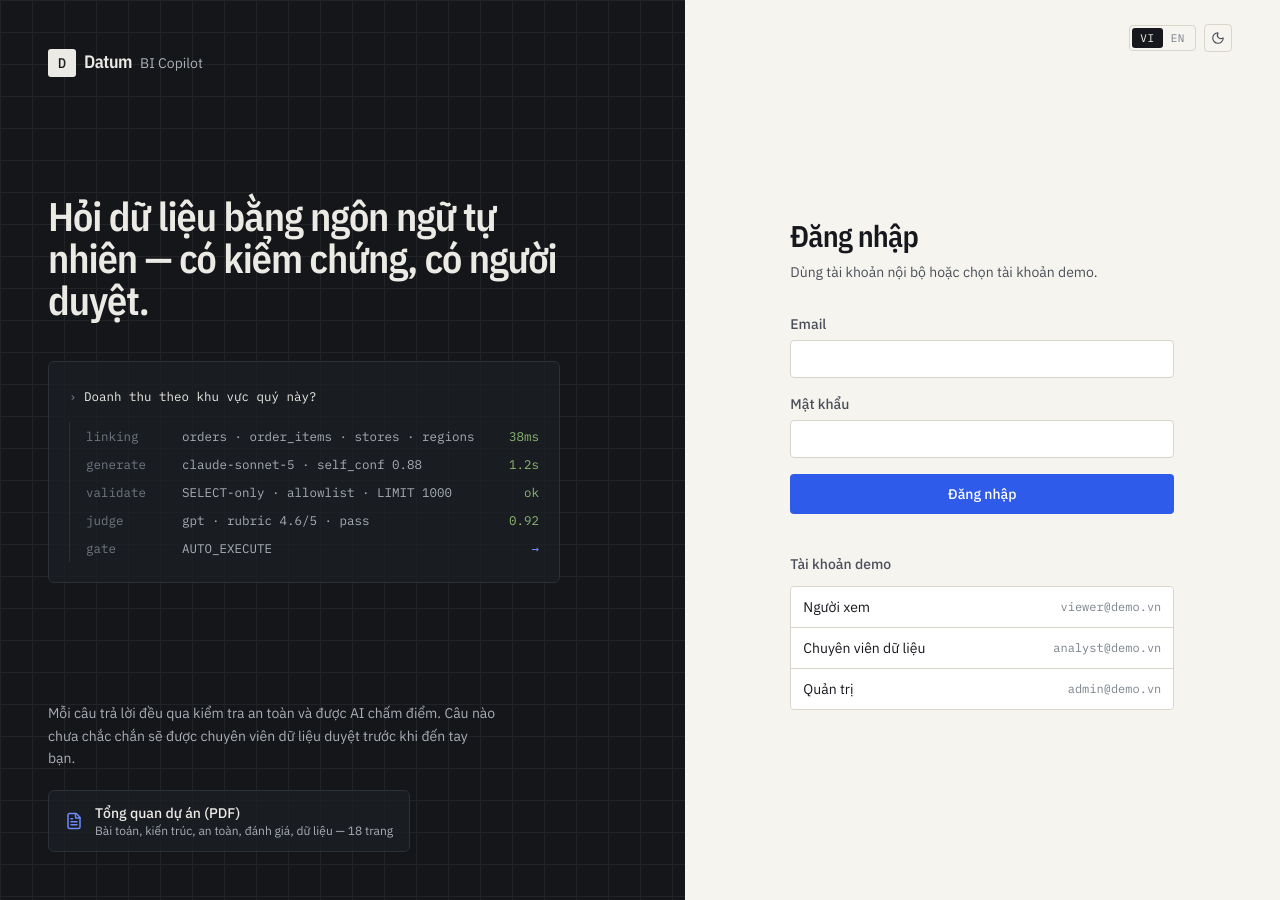
Test case: routing & login › clears a stale error when the user edits the form or picks a demo account
Type "viewer@demo.vn" into the field labelled "Email". click: (982, 359)
box: 790,340 -> 1174,378
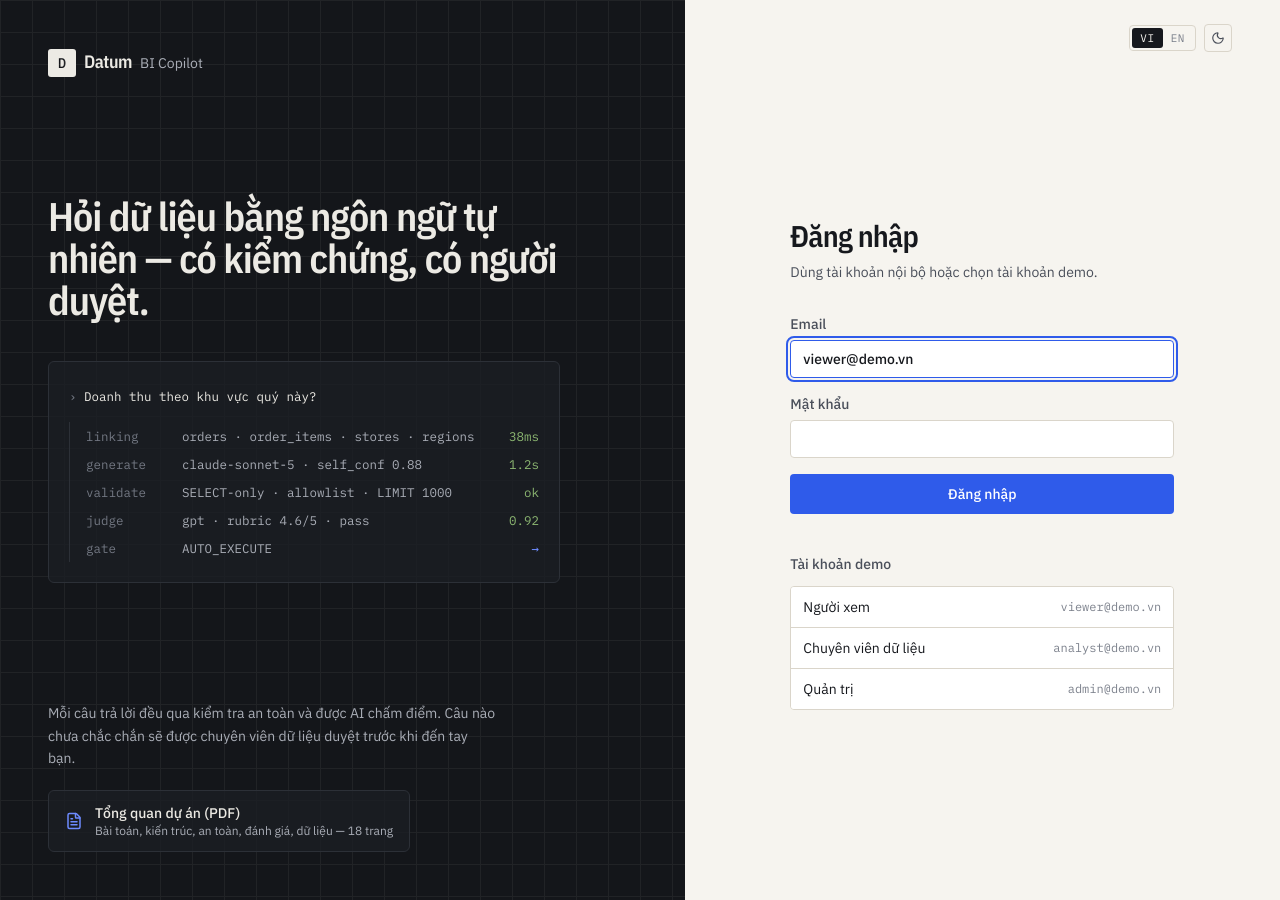
Type "nope" into the password field labelled "Mật khẩu". click: (982, 439)
box: 790,420 -> 1174,458
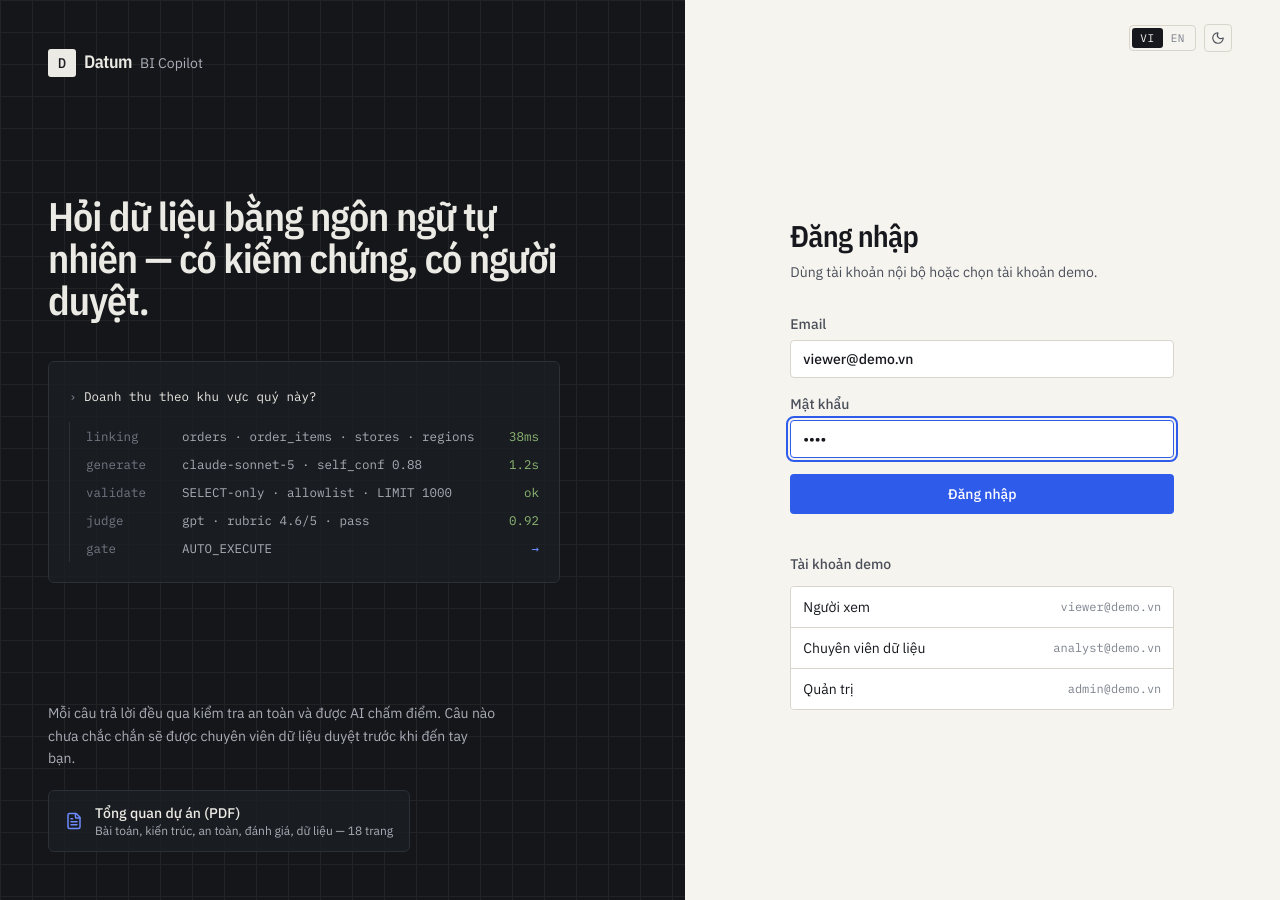
Click the button "Đăng nhập". click: (982, 494)
box: 790,474 -> 1174,514
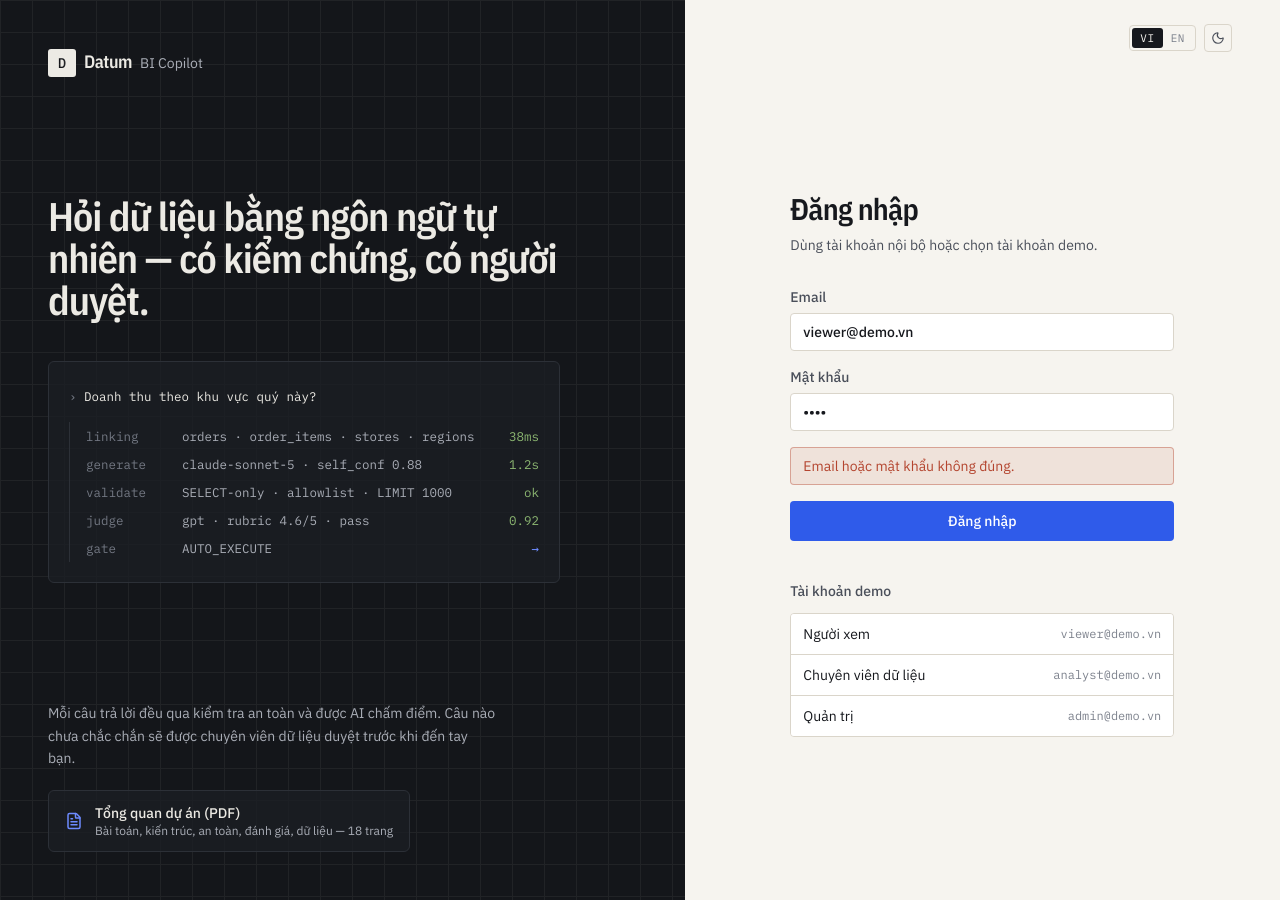
Check: the message "Email hoặc mật khẩu không đúng." is shown, box 790,447 -> 1174,485
Click the button "Quản trị admin@demo.vn". click: (828, 716)
box: 791,696 -> 1173,736
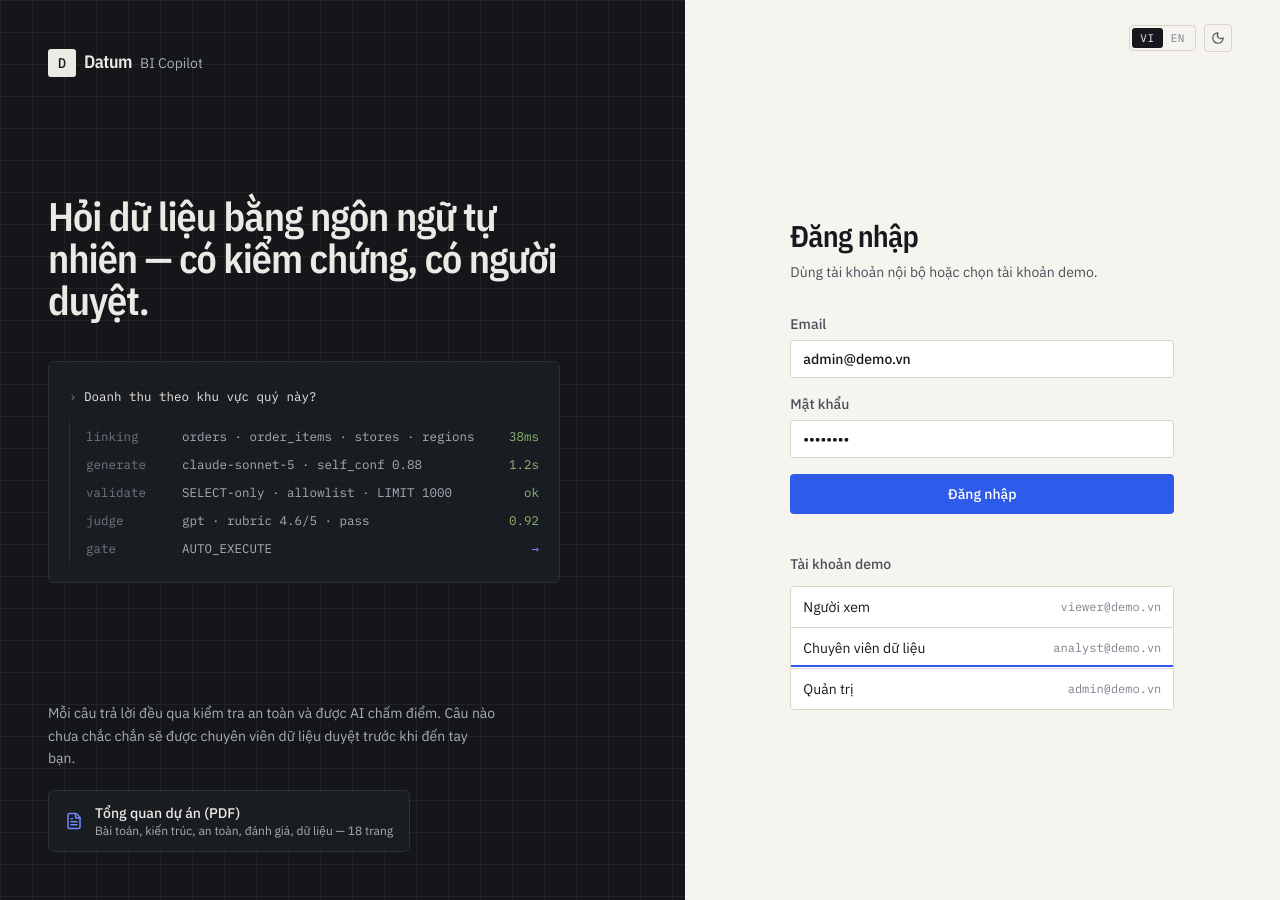
Check: the message "Email hoặc mật khẩu không đúng." is gone
